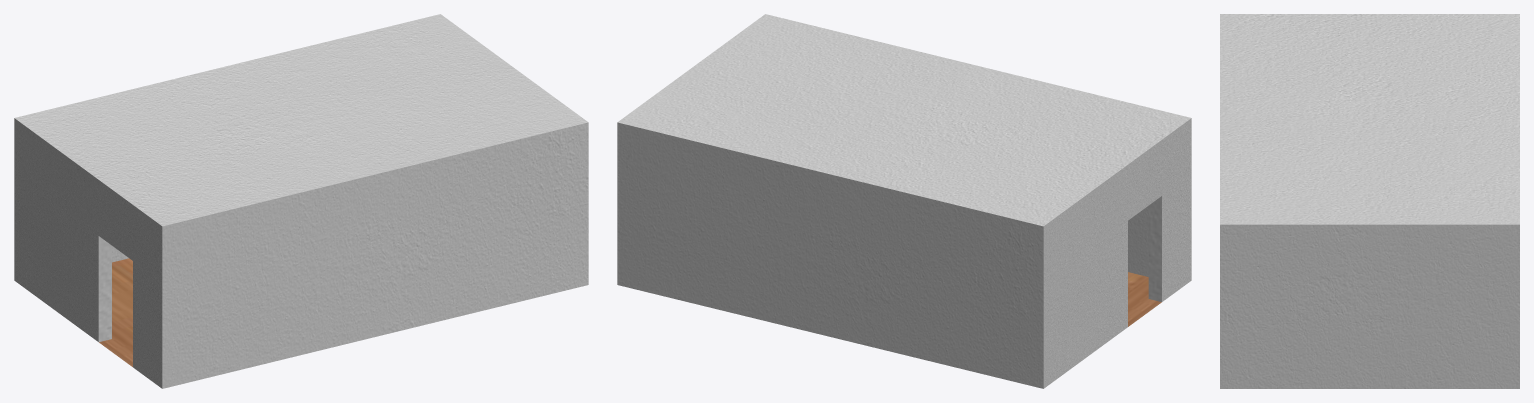
File: Room.obj
The picture shows the model from 3 angles, left to right: view 1: azimuth 30°, elevation 25°; view 2: azimuth 150°, elevation 25°; view 3: azimuth 270°, elevation 25°; orthographic projection.
Parts seen in each view (by area): view 1: Cube; view 2: Cube; view 3: Cube.
Boxes of the visible parts, left/top/right/bottom form: Cube: left=14, top=14, right=588, bottom=388; Cube: left=617, top=14, right=1191, bottom=388; Cube: left=1220, top=14, right=1519, bottom=388.
Bounding box in the file's own units: 3.32 × 1.21 × 2.
1 material, 1 textured.
